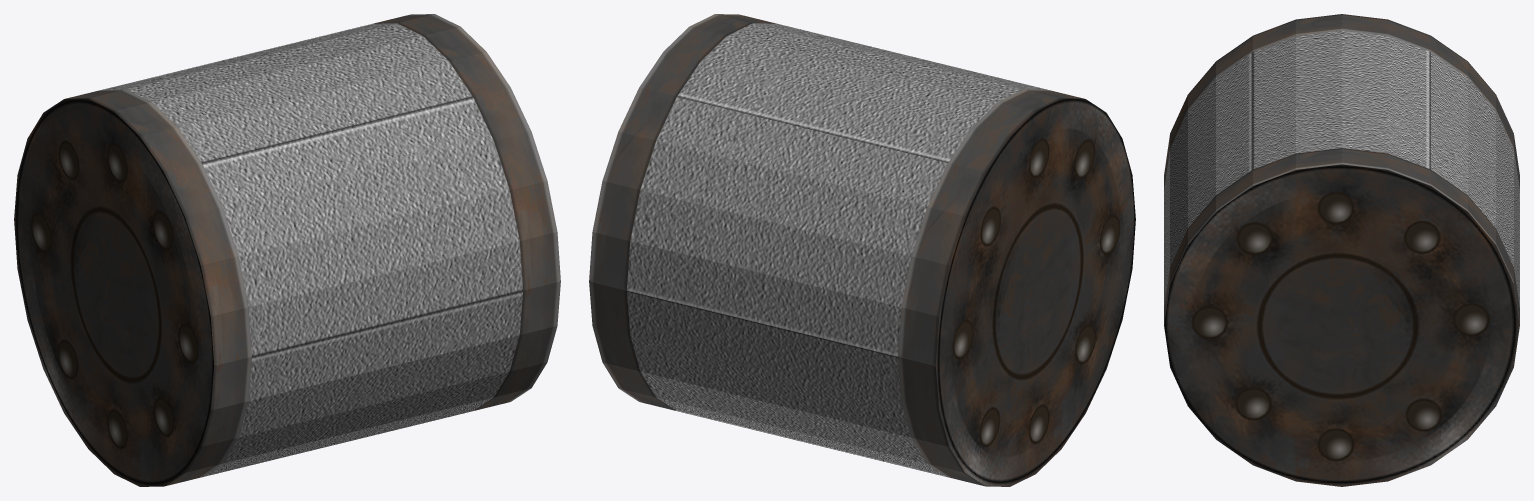
The model's file is RotatingCylinder.fbx.
The picture shows the model from 3 angles, left to right: view 1: azimuth 30°, elevation 25°; view 2: azimuth 150°, elevation 25°; view 3: azimuth 270°, elevation 25°; orthographic projection. The views are drawn at different scales.
Visible parts, largest first — view 1: Cylinder; view 2: Cylinder; view 3: Cylinder.
Part boxes in pixels (x1,y1,x2,y2): Cylinder: [14, 14, 560, 486]; Cylinder: [589, 14, 1135, 486]; Cylinder: [1164, 14, 1519, 486].
Size of the model in its own units: 200 by 200 by 200.
